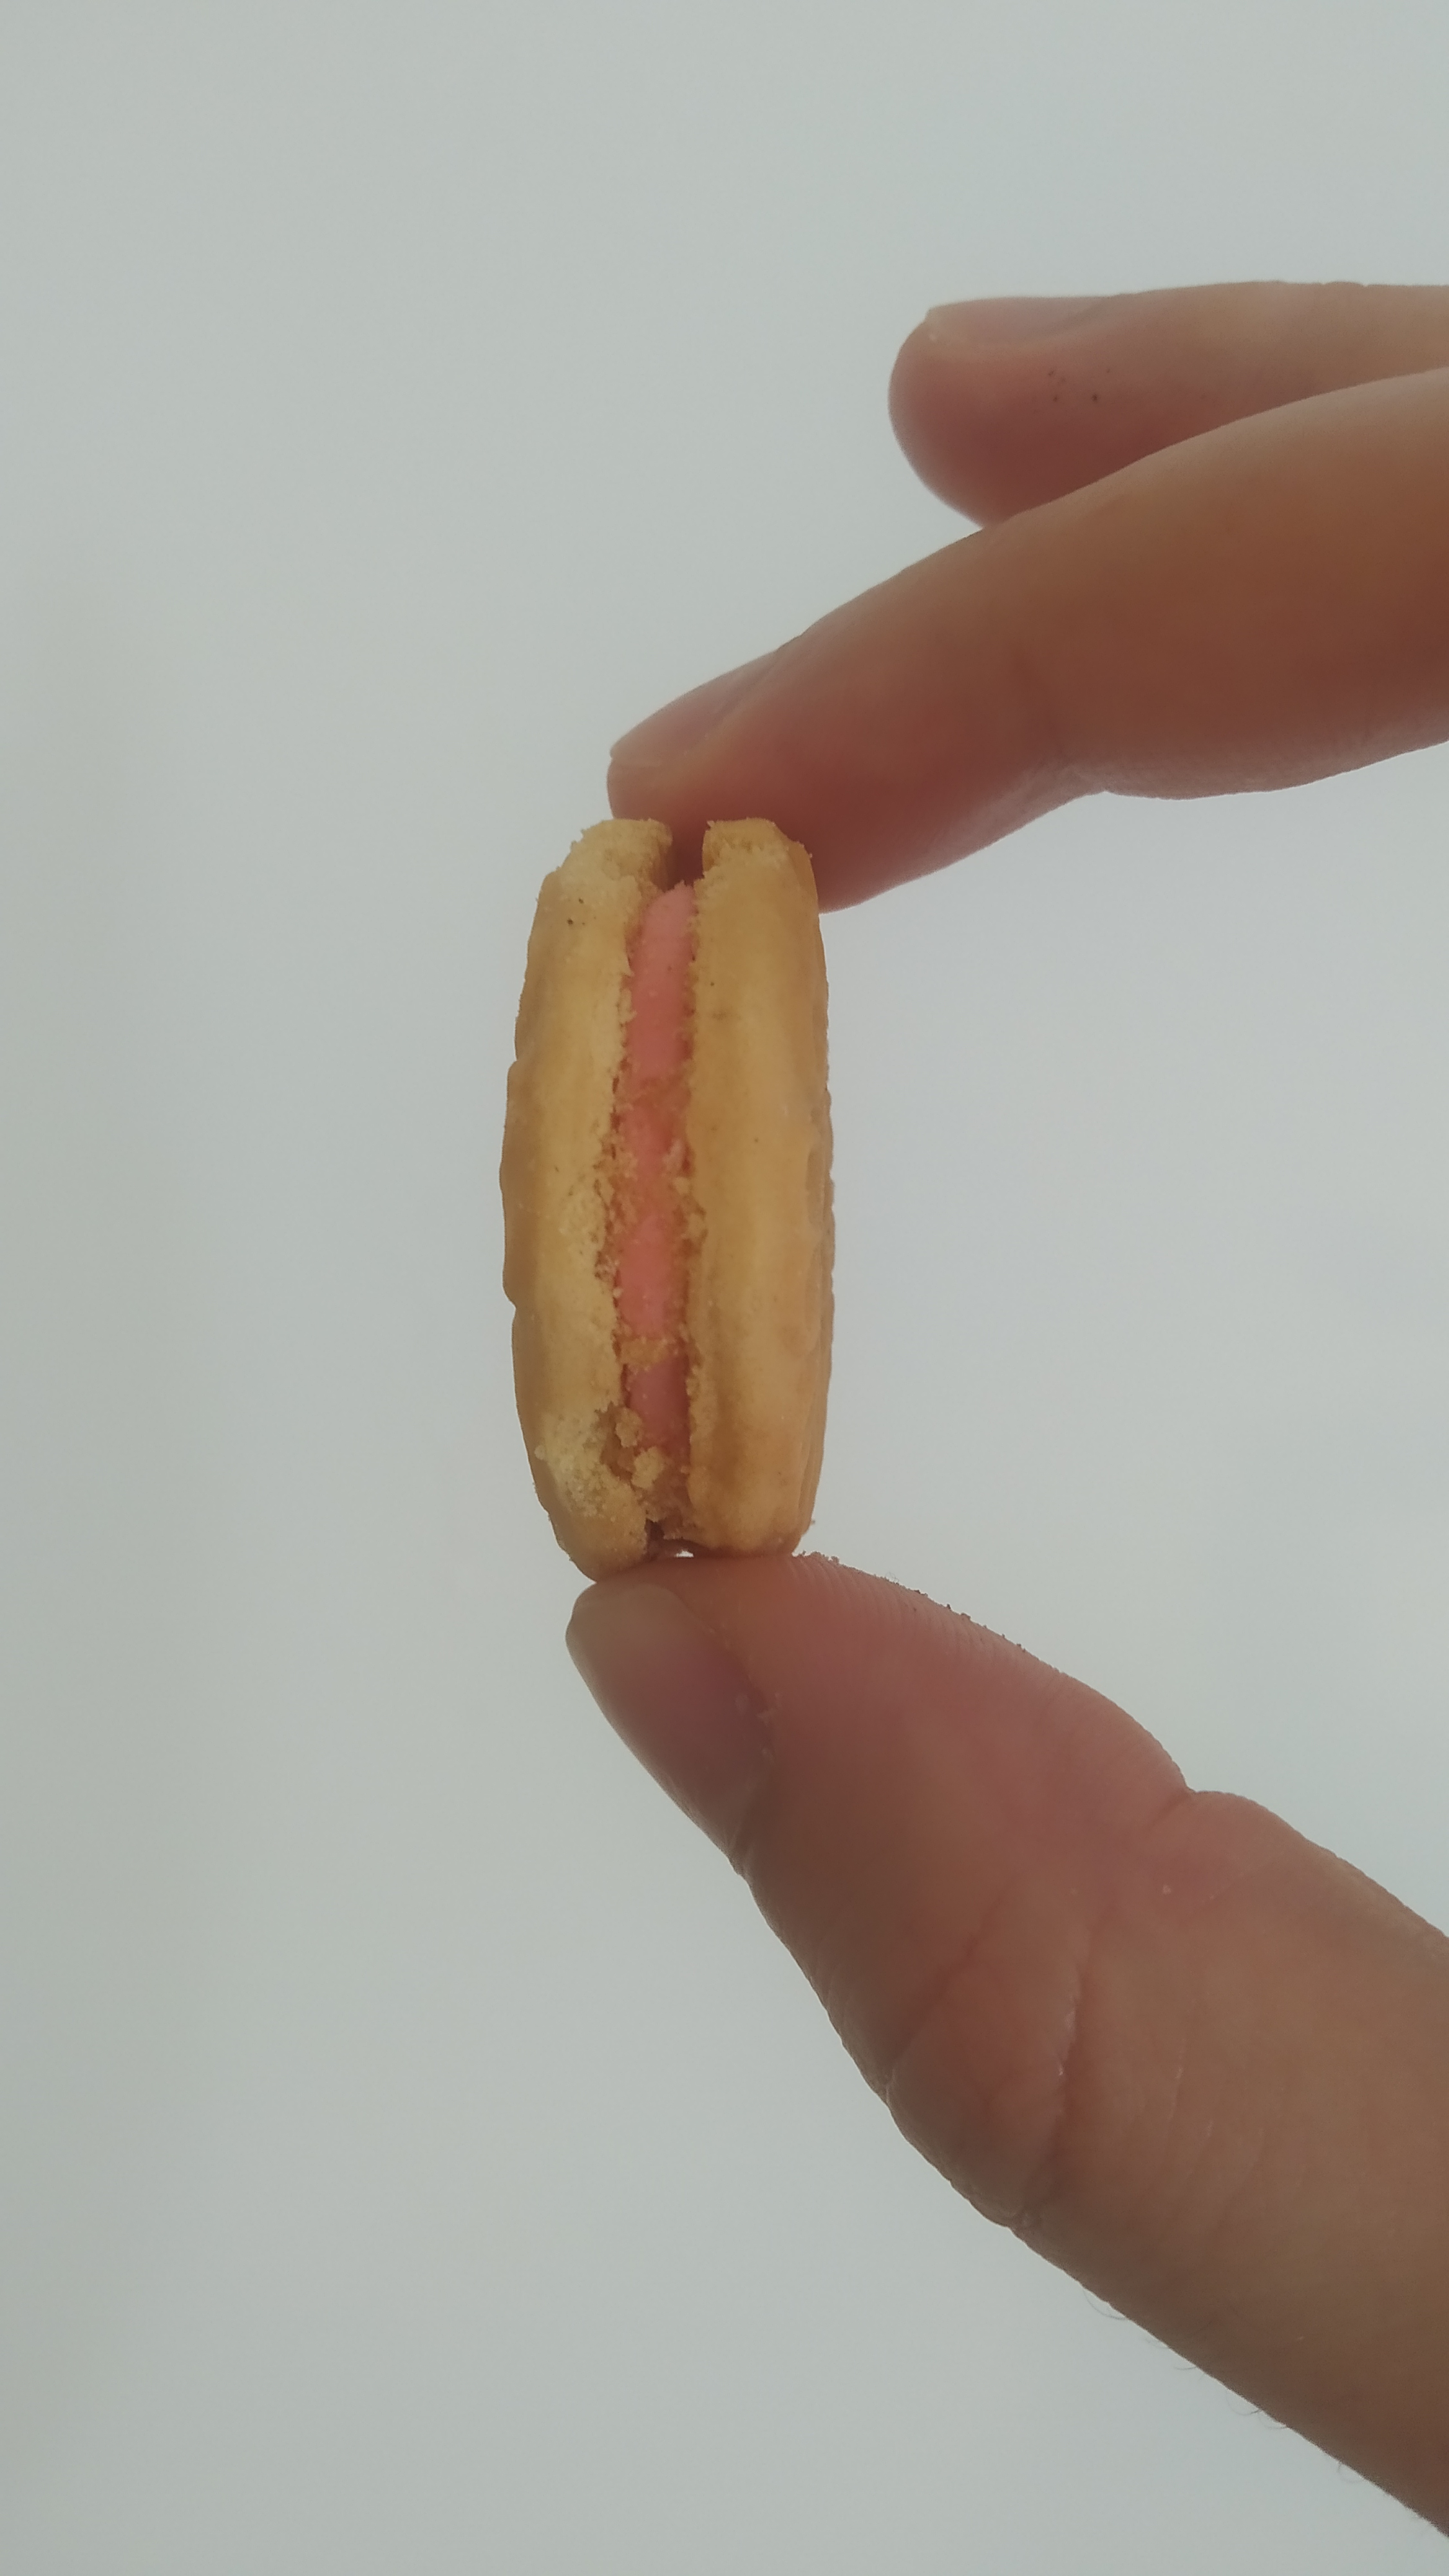lulu: (497, 817, 835, 1571)
